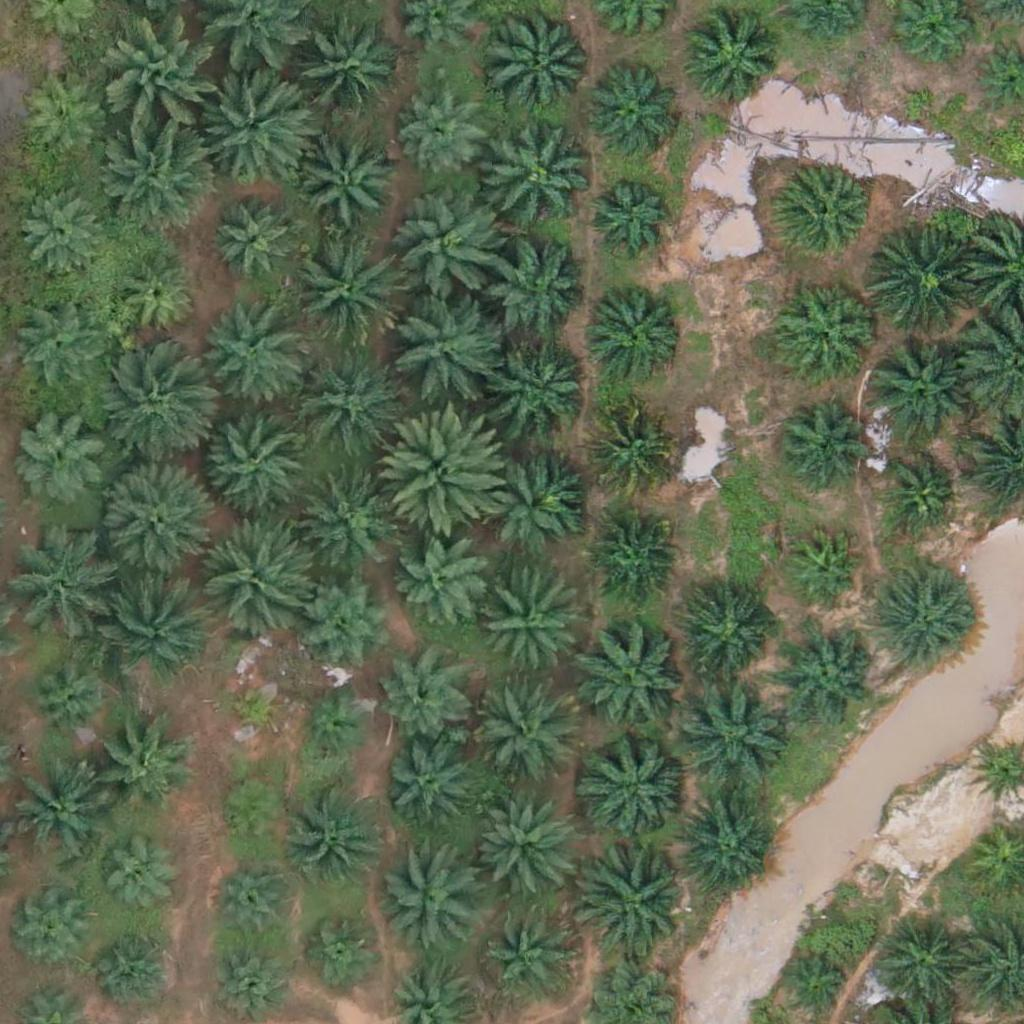Kelapa_Sawit: (384, 409, 509, 535), (386, 287, 499, 401), (287, 16, 400, 130), (675, 675, 788, 788), (576, 619, 689, 732), (580, 730, 693, 843), (288, 235, 401, 348), (292, 347, 405, 460), (199, 402, 312, 515), (96, 463, 209, 576), (865, 229, 978, 342), (480, 118, 593, 231), (103, 120, 216, 233), (393, 193, 506, 306), (96, 565, 208, 679), (486, 3, 598, 117), (109, 24, 221, 138), (579, 842, 691, 955), (192, 303, 304, 416), (197, 520, 309, 633), (94, 354, 206, 467), (199, 67, 311, 180), (866, 338, 966, 439), (872, 915, 972, 1016), (674, 796, 774, 897), (586, 280, 686, 381), (493, 339, 593, 440), (479, 576, 579, 677), (474, 688, 574, 789), (470, 796, 570, 897), (296, 468, 396, 569), (298, 569, 398, 670), (90, 717, 190, 818), (4, 766, 104, 867), (4, 538, 104, 639), (681, 10, 781, 111), (299, 132, 399, 233), (289, 783, 389, 884), (874, 573, 974, 673), (777, 281, 877, 381), (780, 626, 880, 726), (488, 246, 588, 346), (478, 446, 578, 546), (381, 848, 481, 948), (11, 404, 111, 504), (775, 166, 875, 266), (583, 66, 683, 166), (774, 398, 862, 486), (685, 593, 773, 681), (585, 404, 673, 492), (378, 656, 466, 744), (111, 253, 199, 341), (25, 655, 113, 743), (584, 173, 672, 261), (211, 198, 299, 286), (19, 77, 107, 165), (381, 743, 468, 832), (11, 303, 98, 392), (588, 512, 675, 600), (488, 914, 575, 1002), (396, 536, 483, 624), (213, 858, 300, 946), (402, 92, 489, 180), (18, 186, 105, 274), (96, 841, 171, 917), (98, 929, 173, 1005), (297, 689, 372, 765), (786, 529, 861, 605), (216, 776, 291, 852), (304, 911, 379, 986), (16, 896, 91, 971), (881, 455, 956, 530), (223, 677, 285, 740)
